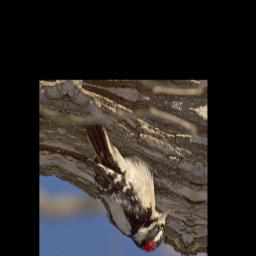Woodpecker: (67, 121, 182, 256)
